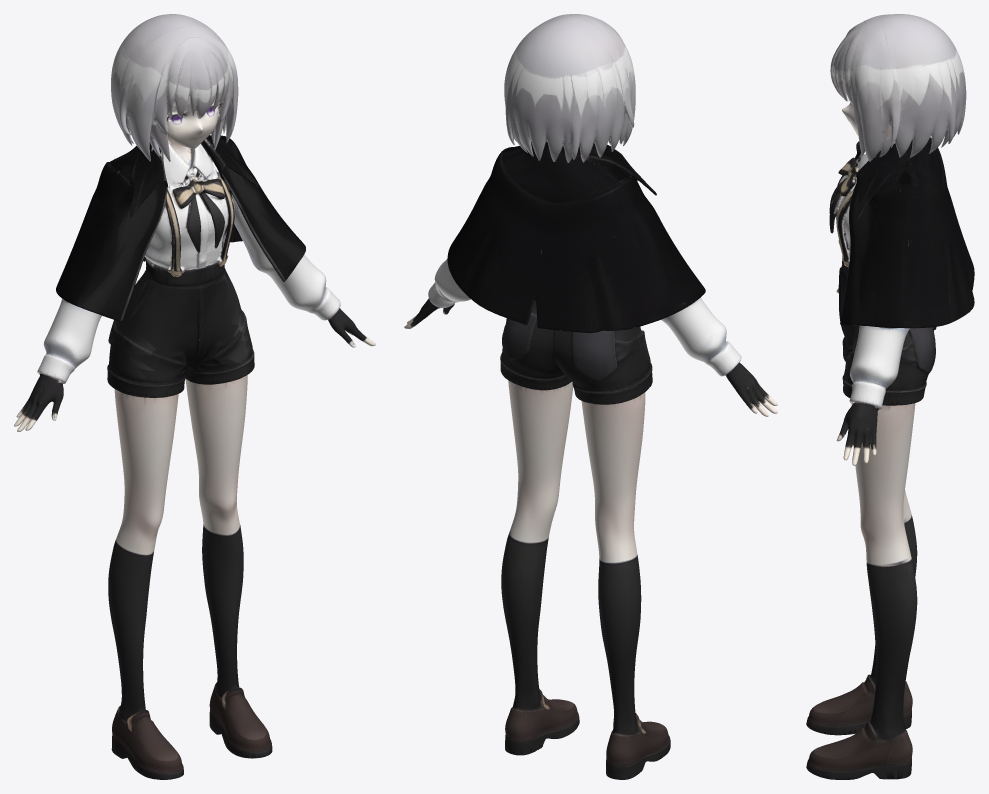
The model's file is Meshy_AI_Monochrome_Muse_0515011147_texture.fbx.
The picture shows the model from 3 angles, left to right: view 1: azimuth 30°, elevation 25°; view 2: azimuth 150°, elevation 25°; view 3: azimuth 270°, elevation 25°; orthographic projection. The views are drawn at different scales.
Visible parts, largest first — view 1: Mesh_0; view 2: Mesh_0; view 3: Mesh_0.
Part boxes in pixels (x1=…): Mesh_0: x1=14, y1=14, x2=375, y2=779; Mesh_0: x1=404, y1=14, x2=777, y2=779; Mesh_0: x1=806, y1=14, x2=974, y2=779.
Size of the model in its own units: 99.18 by 190 by 39.65.
Materials: 1 (1 with a texture image).
